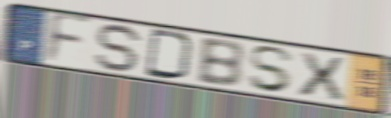B: (195, 37, 247, 89)
D: (143, 27, 198, 82)
F: (42, 11, 96, 67)
S: (94, 23, 147, 74), (246, 44, 297, 95)
X: (297, 50, 348, 102)
